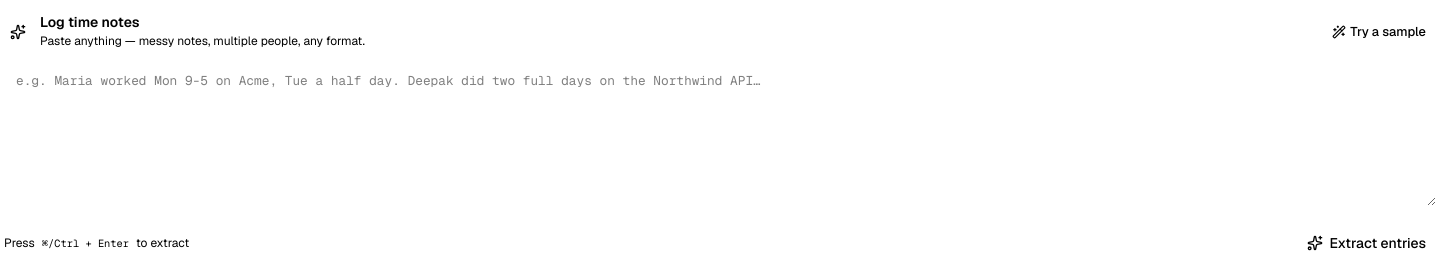
Scenario: loads sample identity from the server without supplying another person's name
Click the button "Try a sample" at (1379, 32), box 1322,18 -> 1436,46
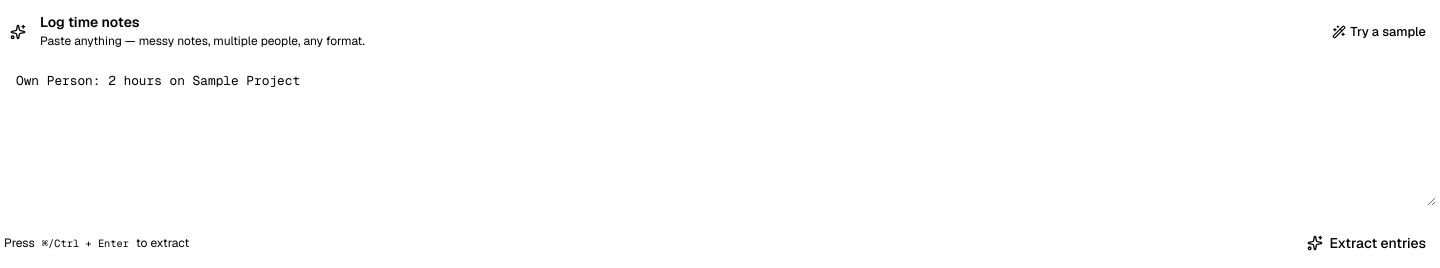
Check: the text box named "Time worked notes" holds "Own Person: 2 hours on Sample Project", box 4,61 -> 1436,206
